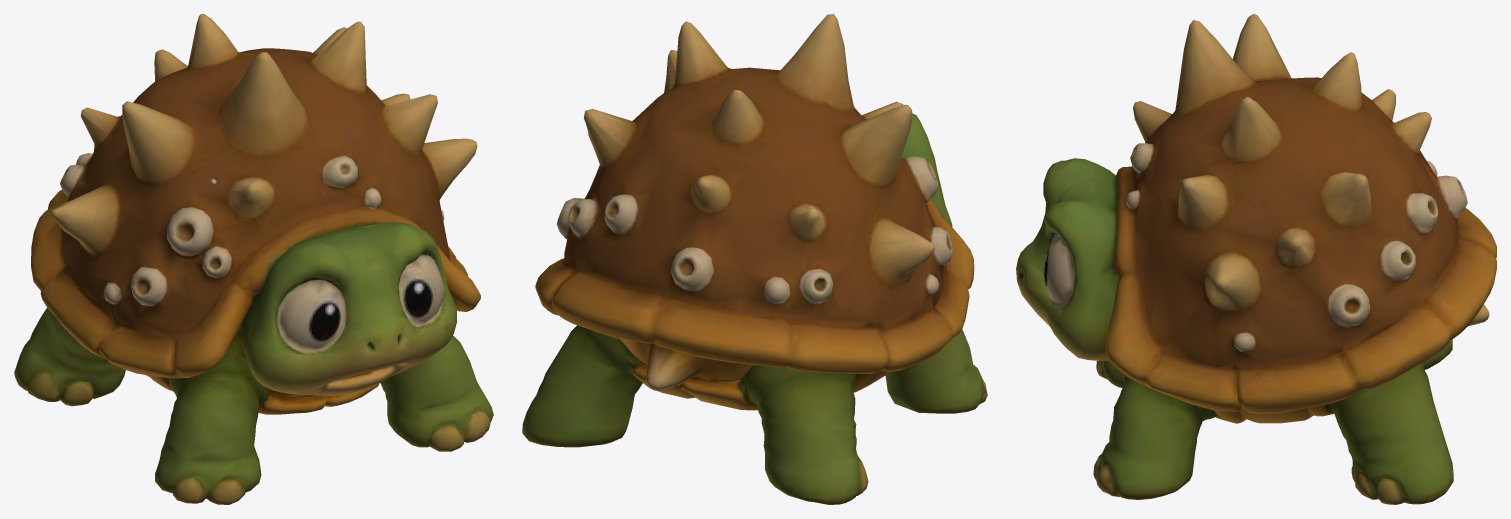
File: turtle.glb
The picture shows the model from 3 angles, left to right: view 1: azimuth 30°, elevation 25°; view 2: azimuth 150°, elevation 25°; view 3: azimuth 270°, elevation 25°; orthographic projection. The views are drawn at different scales.
Visible parts, largest first — view 1: tripo_node_6d809b79-e64a-42e8-8be4-4ce47478f5e5; view 2: tripo_node_6d809b79-e64a-42e8-8be4-4ce47478f5e5; view 3: tripo_node_6d809b79-e64a-42e8-8be4-4ce47478f5e5.
Boxes of the visible parts, x1,y1,x2,y2 form: tripo_node_6d809b79-e64a-42e8-8be4-4ce47478f5e5: (14,14,493,504); tripo_node_6d809b79-e64a-42e8-8be4-4ce47478f5e5: (522,14,987,504); tripo_node_6d809b79-e64a-42e8-8be4-4ce47478f5e5: (1016,14,1496,504).
Size of the model in its own units: 0.8913 by 0.8837 by 0.9776.
1 material, 1 textured.
